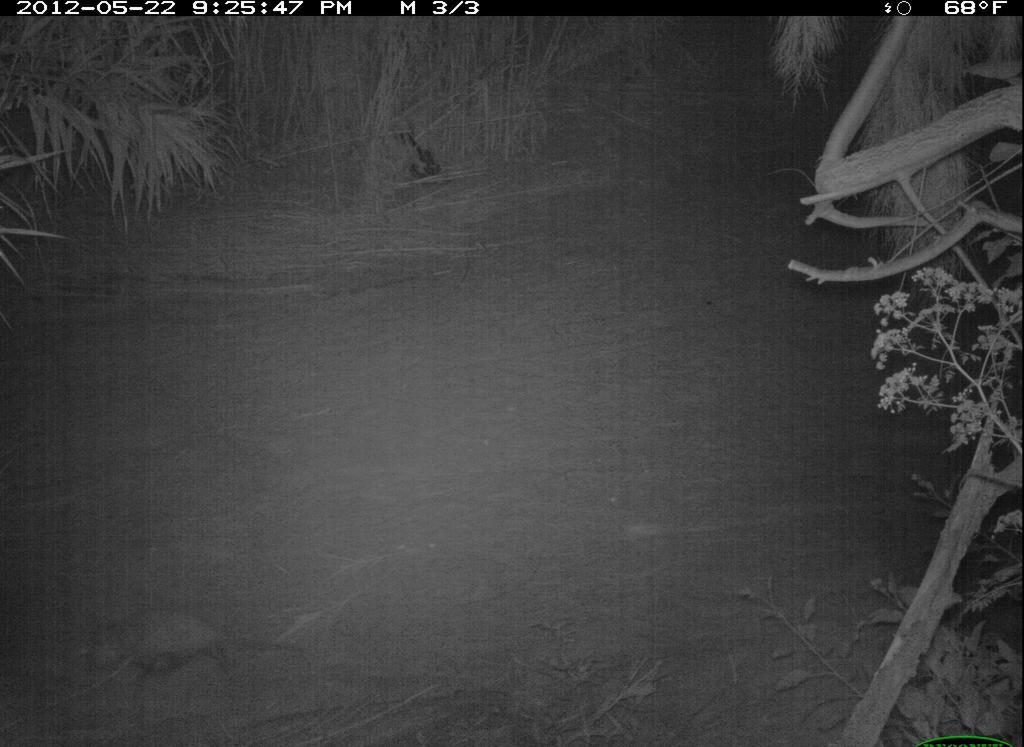opossum: (77, 601, 315, 701)
